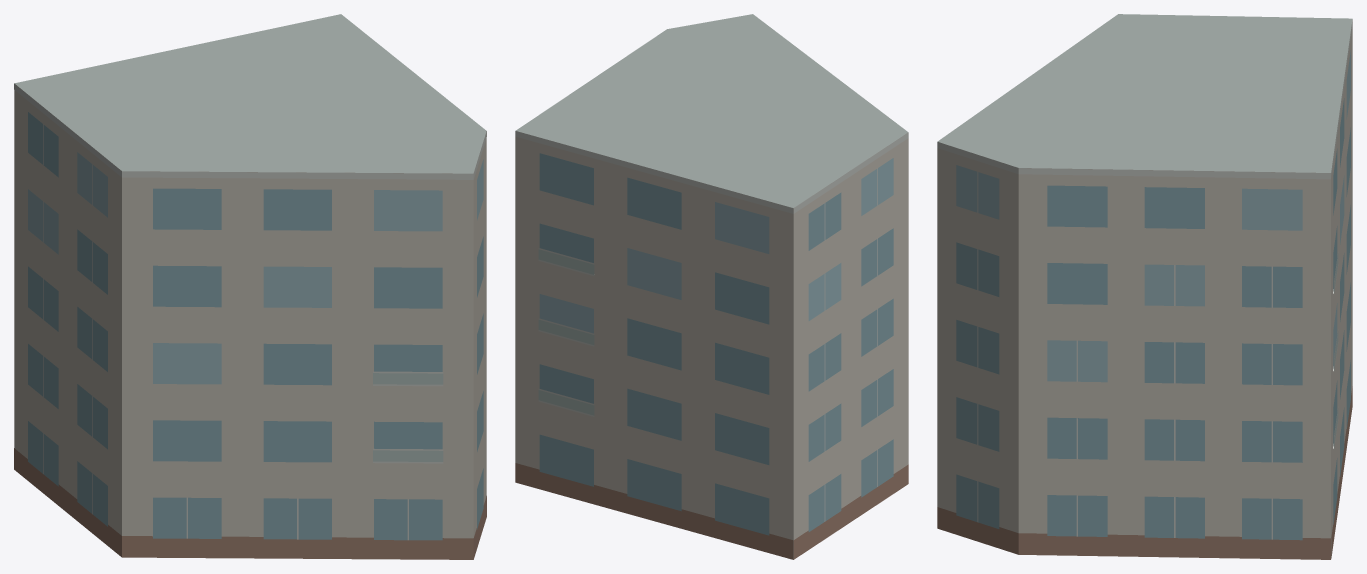
The model's file is survey-upis-32663287.glb.
3 views of the same model, side by side, from view 1: azimuth 30°, elevation 25°; view 2: azimuth 150°, elevation 25°; view 3: azimuth 270°, elevation 25° (orthographic). The views are drawn at different scales.
Parts seen in each view (by area): view 1: survey-upis-32663287.tmp; view 2: survey-upis-32663287.tmp; view 3: survey-upis-32663287.tmp.
Part boxes in pixels (x1,y1,x2,y2): survey-upis-32663287.tmp: [14, 14, 486, 559]; survey-upis-32663287.tmp: [515, 14, 908, 559]; survey-upis-32663287.tmp: [937, 14, 1352, 559].
Size of the model in its own units: 13.1 by 14.85 by 14.46.
